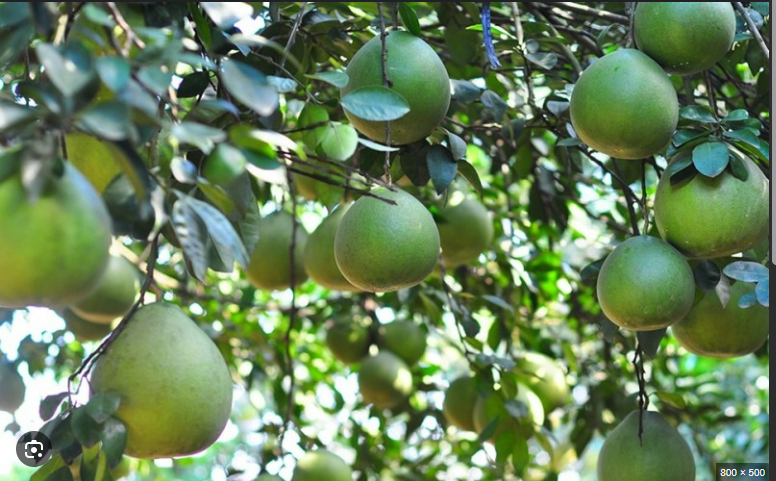buoi: (84, 286, 239, 465), (0, 130, 113, 307), (331, 26, 454, 148), (651, 136, 772, 259), (561, 45, 680, 161), (579, 228, 704, 337), (330, 174, 444, 292), (585, 394, 699, 480), (627, 4, 745, 75), (238, 200, 311, 290), (468, 380, 539, 447), (347, 356, 413, 416), (375, 313, 430, 363), (442, 371, 480, 435), (326, 307, 364, 362)
